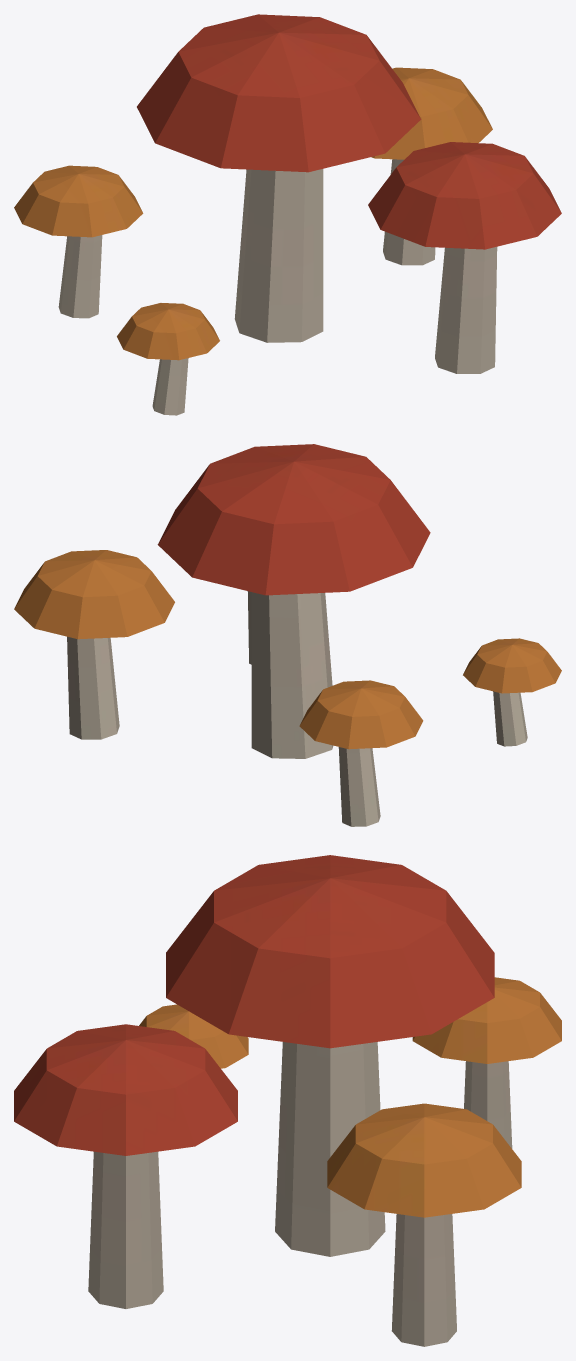
Rendered from mushroom_01.glb.
3 views of the same model, one above another, from view 1: azimuth 30°, elevation 25°; view 2: azimuth 150°, elevation 25°; view 3: azimuth 270°, elevation 25° (orthographic). The views are drawn at different scales.
Visible parts, largest first — view 1: mushroom_01; view 2: mushroom_01; view 3: mushroom_01.
Part boxes in pixels (x1=…): mushroom_01: x1=14, y1=14, x2=561, y2=415; mushroom_01: x1=14, y1=444, x2=561, y2=826; mushroom_01: x1=14, y1=855, x2=561, y2=1346.
Size of the model in its own units: 0.81 by 0.4996 by 0.6978.
Materials: 4 (4 with a texture image).
